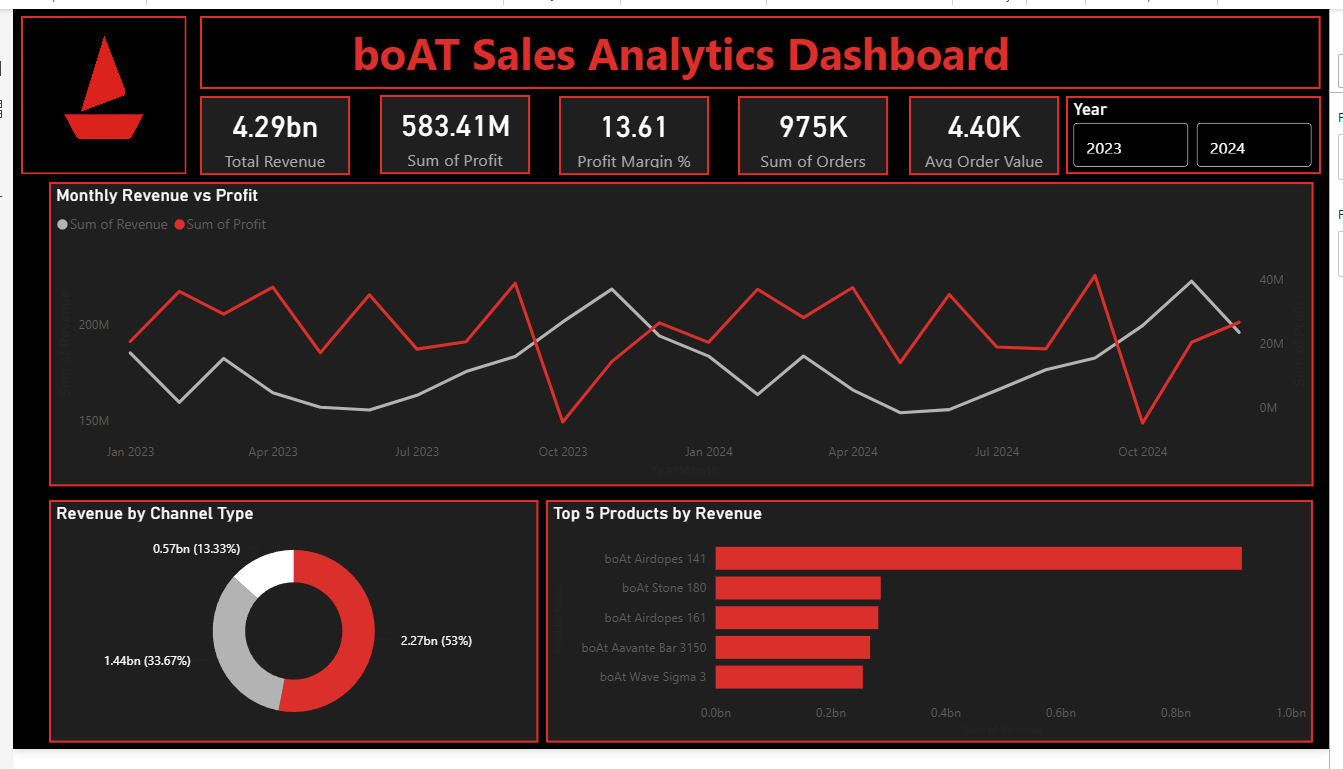

The dashboard page shown, as its layout file describes it:
{"tool":"powerbi","page":{"name":"Executive Overview","canvas":[1280,720],"ordinal":0},"visuals":[{"type":"group","id":"g1","title":"Group 1","box":[8.2,7.3,1264.1,706.4],"z":0},{"type":"card","fields":{"Values":["Sum(MonthlySales.Profit)"]},"box":[357.3,84.4,146,77],"z":0,"group":"g1"},{"type":"card","fields":{"Values":["MonthlySales.Profit Margin %"]},"box":[531.4,85.3,146,77],"z":1000,"group":"g1"},{"type":"card","fields":{"Values":["Sum(ChannelPerformance.Orders)"]},"box":[705.5,85.3,146,77],"z":2000,"group":"g1"},{"type":"card","fields":{"Values":["MonthlySales.Avg Order Value"]},"box":[872.4,85.3,146,77],"z":3000,"group":"g1"},{"type":"card","fields":{"Values":["Sum(CustomerSegments.Revenue)"]},"box":[182.3,85.3,146,77],"z":4000,"group":"g1"},{"type":"lineChart","title":"Monthly Revenue vs Profit","fields":{"Category":["MonthlySales.YearMonth"],"Y":["Sum(MonthlySales.Revenue)"],"Y2":["Sum(MonthlySales.Profit)"]},"box":[35.4,168.7,1229.6,295.6],"z":5000,"group":"g1"},{"type":"donutChart","title":"Revenue by Channel Type","fields":{"Category":["ChannelPerformance.Channel Type"],"Y":["Sum(ChannelPerformance.Revenue)"]},"box":[35.4,477.9,476.1,235.8],"z":6000,"group":"g1"},{"type":"clusteredBarChart","title":"Top 5 Products by Revenue","fields":{"Category":["ProductPerformance.Product Name"],"Y":["Sum(ProductPerformance.Revenue)"]},"box":[518.7,477.9,746.3,235.8],"z":7000,"group":"g1"},{"type":"textbox","box":[182.3,7.3,1090,70.7],"z":8000,"group":"g1"},{"type":"image","box":[8.2,7.3,161.4,154.2],"z":10000,"group":"g1"},{"type":"advancedSlicerVisual","title":"Year","fields":{"Values":["MonthlySales.Yr"]},"box":[1024.7,85.3,247.6,76.2],"z":11000,"group":"g1"}]}

Visuals, with their boxes in screenshot pixels (x1, y1, x2, y2), scaled from the page's 1280x720 canvas onto the 1343x769 screenshot:
"Group 1" group: locate(9, 8, 1335, 762)
card - Sum(MonthlySales.Profit): locate(375, 90, 528, 172)
card - MonthlySales.Profit Margin %: locate(558, 91, 711, 173)
card - Sum(ChannelPerformance.Orders): locate(740, 91, 893, 173)
card - MonthlySales.Avg Order Value: locate(915, 91, 1069, 173)
card - Sum(CustomerSegments.Revenue): locate(191, 91, 344, 173)
"Monthly Revenue vs Profit" lineChart: locate(37, 180, 1327, 496)
"Revenue by Channel Type" donutChart: locate(37, 510, 537, 762)
"Top 5 Products by Revenue" clusteredBarChart: locate(544, 510, 1327, 762)
textbox: locate(191, 8, 1335, 83)
image: locate(9, 8, 178, 172)
"Year" advancedSlicerVisual: locate(1075, 91, 1335, 172)
